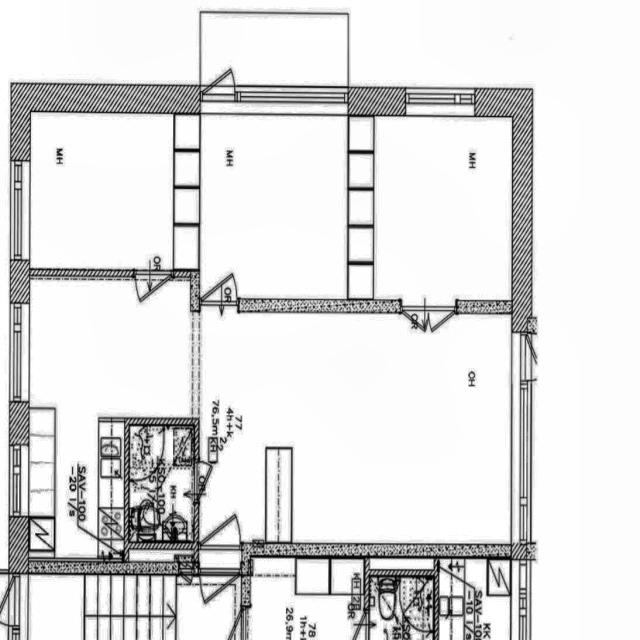Doors-dC8s: (136, 269, 172, 281), (205, 95, 242, 104), (205, 305, 242, 313), (202, 574, 246, 578), (202, 549, 244, 553), (404, 302, 461, 304)
Window: (402, 90, 479, 118), (8, 304, 28, 404), (12, 159, 28, 264), (12, 449, 26, 520), (515, 334, 531, 379)
